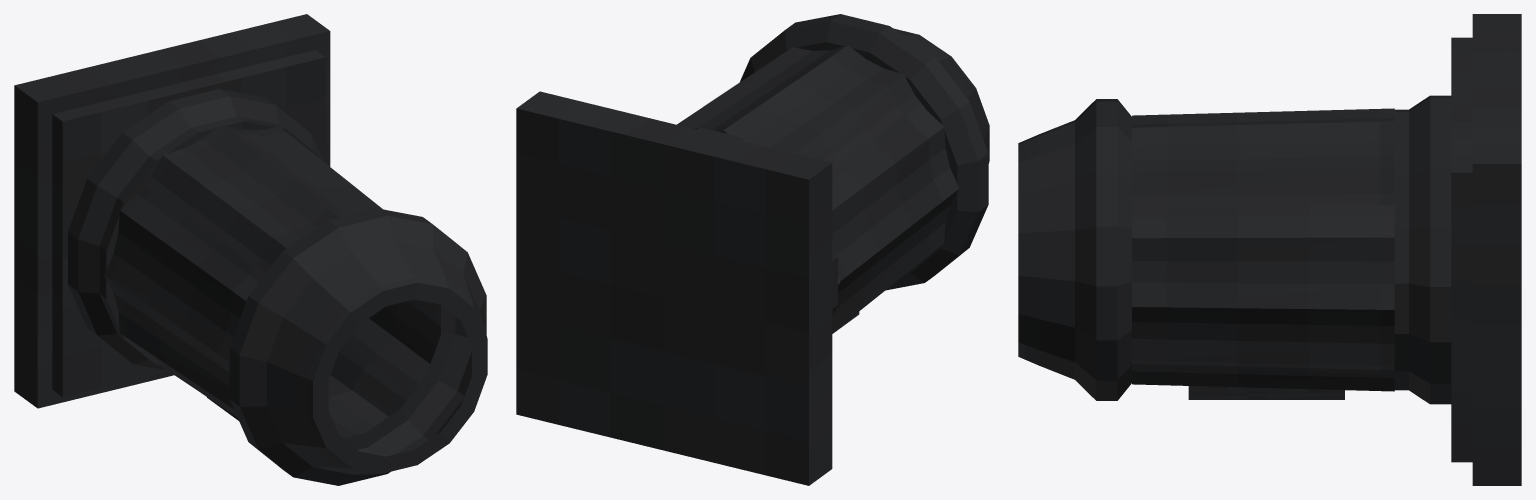
Rendered from decopole_anaheim_base_n.obj.
The picture shows the model from 3 angles, left to right: view 1: azimuth 30°, elevation 25°; view 2: azimuth 150°, elevation 25°; view 3: azimuth 270°, elevation 25°; orthographic projection. The views are drawn at different scales.
Visible parts, largest first — view 1: decopole_anaheim_base_n; view 2: decopole_anaheim_base_n; view 3: decopole_anaheim_base_n.
Part boxes in pixels (left/top/right/bottom): decopole_anaheim_base_n: left=14, top=14, right=487, bottom=485; decopole_anaheim_base_n: left=516, top=14, right=989, bottom=485; decopole_anaheim_base_n: left=1018, top=14, right=1521, bottom=485.
Size of the model in its own units: 0.625 by 0.625 by 0.8862.
